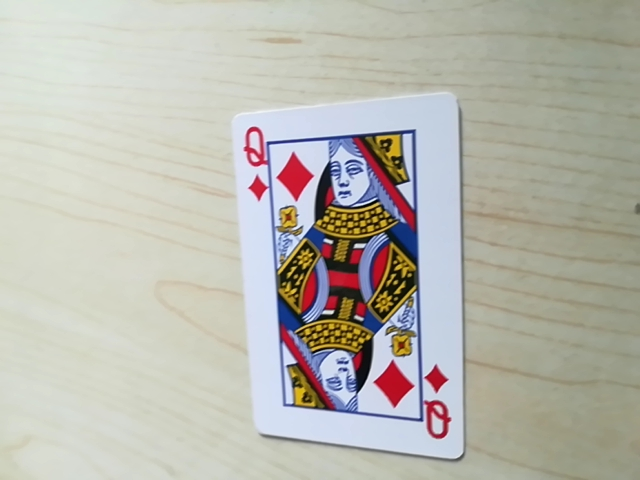fk q: (236, 127, 277, 182), (417, 392, 456, 448)
